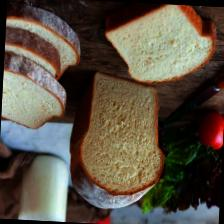bread: (64, 70, 168, 212), (101, 0, 216, 87)
